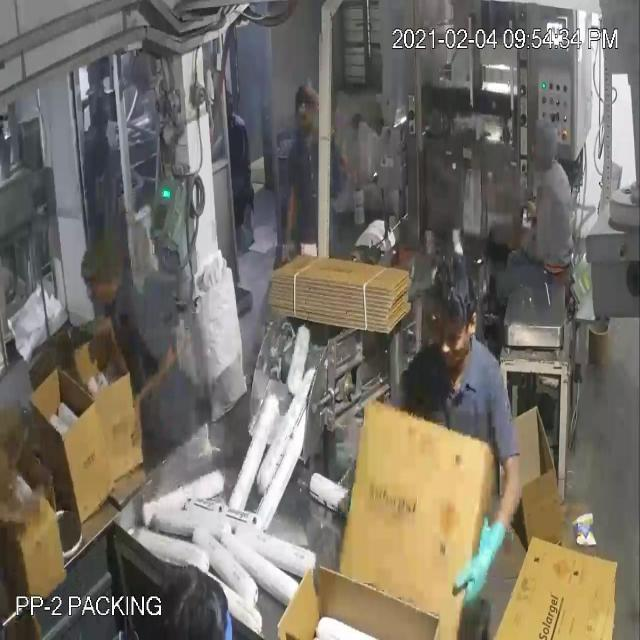No_Gloves: (22, 66, 480, 554)
